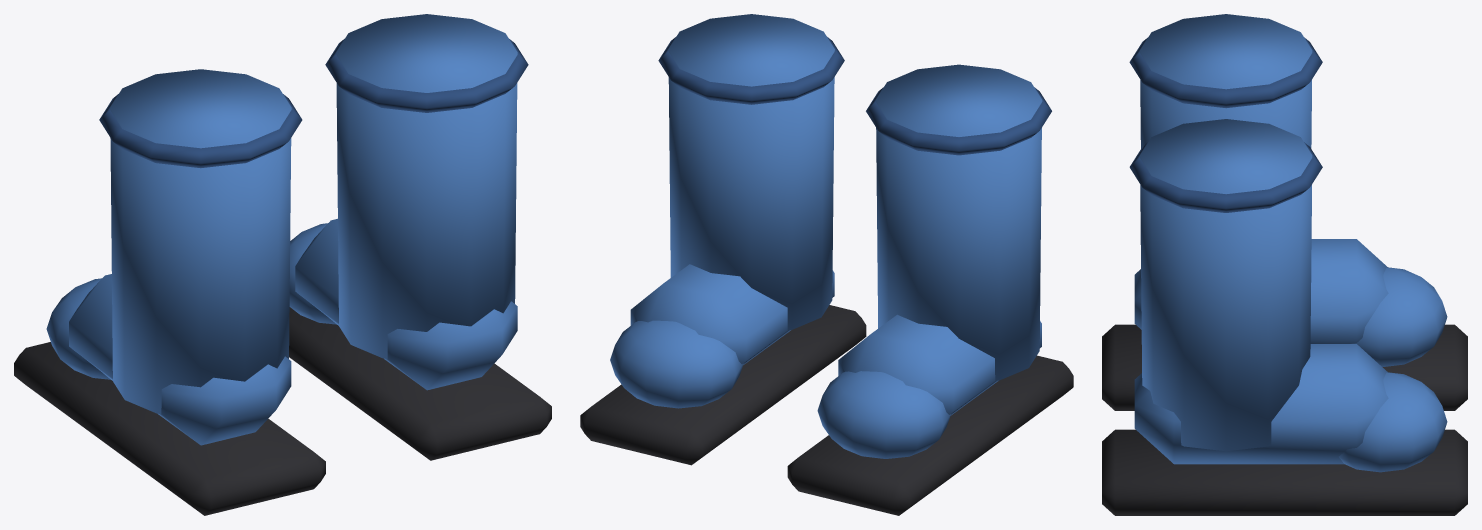
Rendered from shoes_boots.glb.
3 renders of one model, left to right at view 1: azimuth 30°, elevation 25°; view 2: azimuth 150°, elevation 25°; view 3: azimuth 270°, elevation 25°, orthographic. The views are drawn at different scales.
Parts seen in each view (by area): view 1: ShinL, ShinR; view 2: ShinR, ShinL; view 3: ShinR, ShinL.
Boxes of the visible parts, x1=… form: ShinL: x1=14, y1=69, x2=325, y2=515; ShinR: x1=289, y1=14, x2=551, y2=460; ShinR: x1=580, y1=14, x2=866, y2=465; ShinL: x1=787, y1=64, x2=1073, y2=515; ShinR: x1=1102, y1=119, x2=1467, y2=515; ShinL: x1=1102, y1=14, x2=1467, y2=410.
Size of the model in its own units: 0.338 by 0.283 by 0.28.
